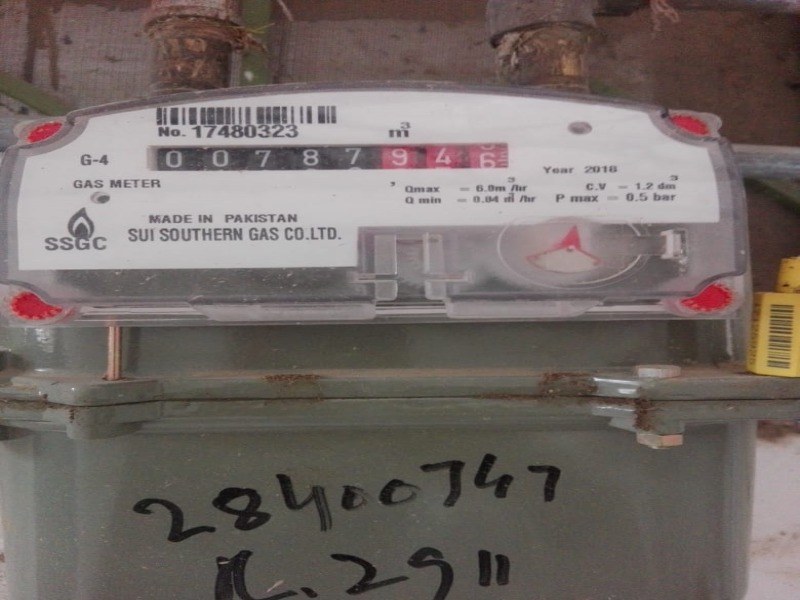ssgc: (142, 141, 510, 174)
